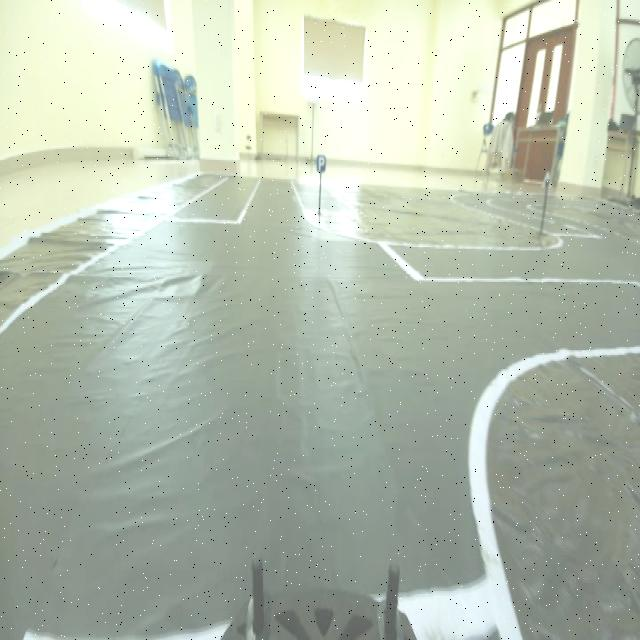parking: (314, 152, 331, 174)
